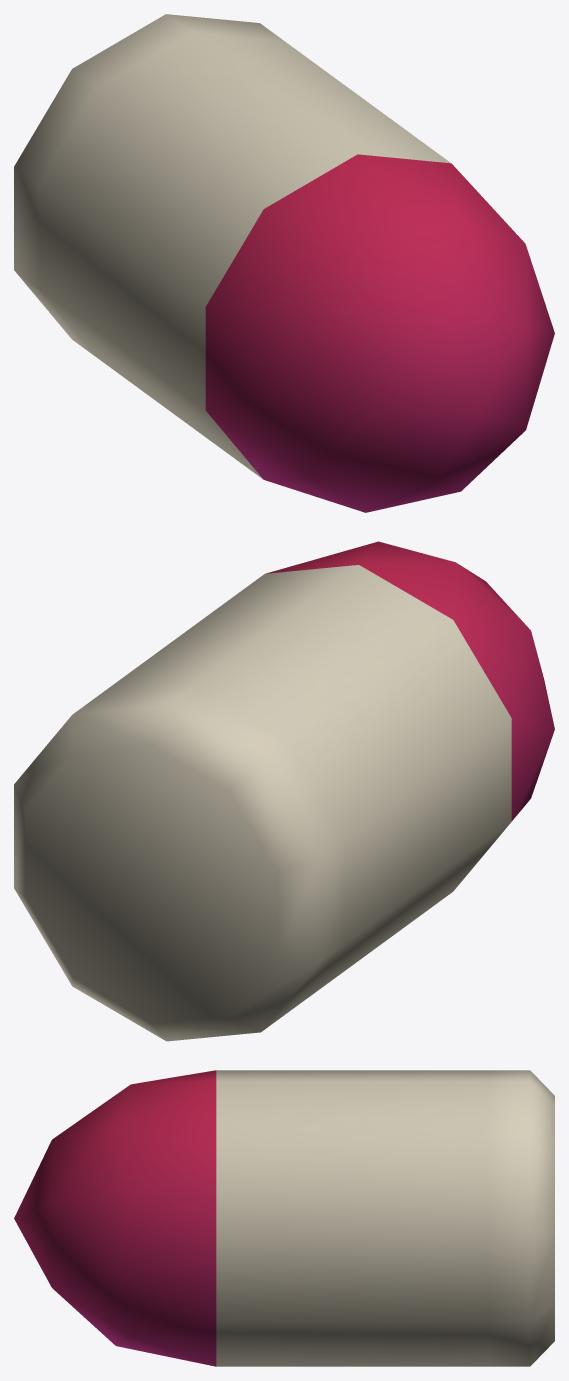
Rendered from Bullet.obj.
3 renders of one model, top to bottom at view 1: azimuth 30°, elevation 25°; view 2: azimuth 150°, elevation 25°; view 3: azimuth 270°, elevation 25°, orthographic. The views are drawn at different scales.
Parts seen in each view (by area): view 1: Bullet; view 2: Bullet; view 3: Bullet.
Part boxes in pixels (bbox=[...]): Bullet: bbox=[14, 14, 554, 512]; Bullet: bbox=[14, 541, 554, 1041]; Bullet: bbox=[14, 1070, 554, 1366].
Size of the model in its own units: 0.0916 by 0.0963 by 0.1725.
